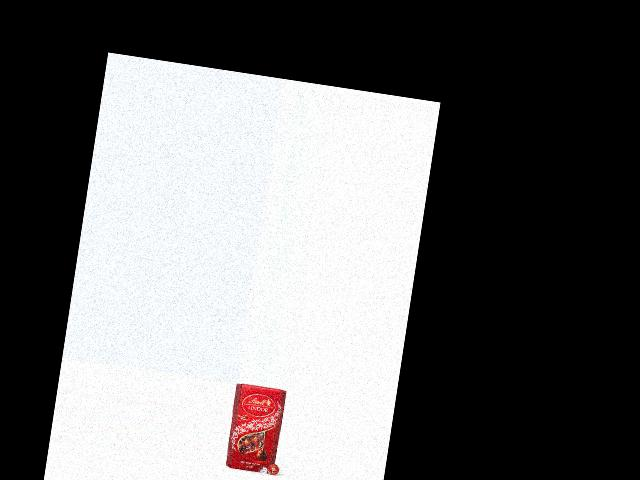chocolate: (225, 383, 291, 475)
